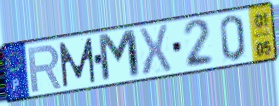0: (219, 13, 248, 63)
2: (181, 18, 216, 72)
M: (96, 27, 143, 85), (57, 36, 98, 89)
R: (26, 43, 64, 95)
X: (136, 23, 173, 79)
